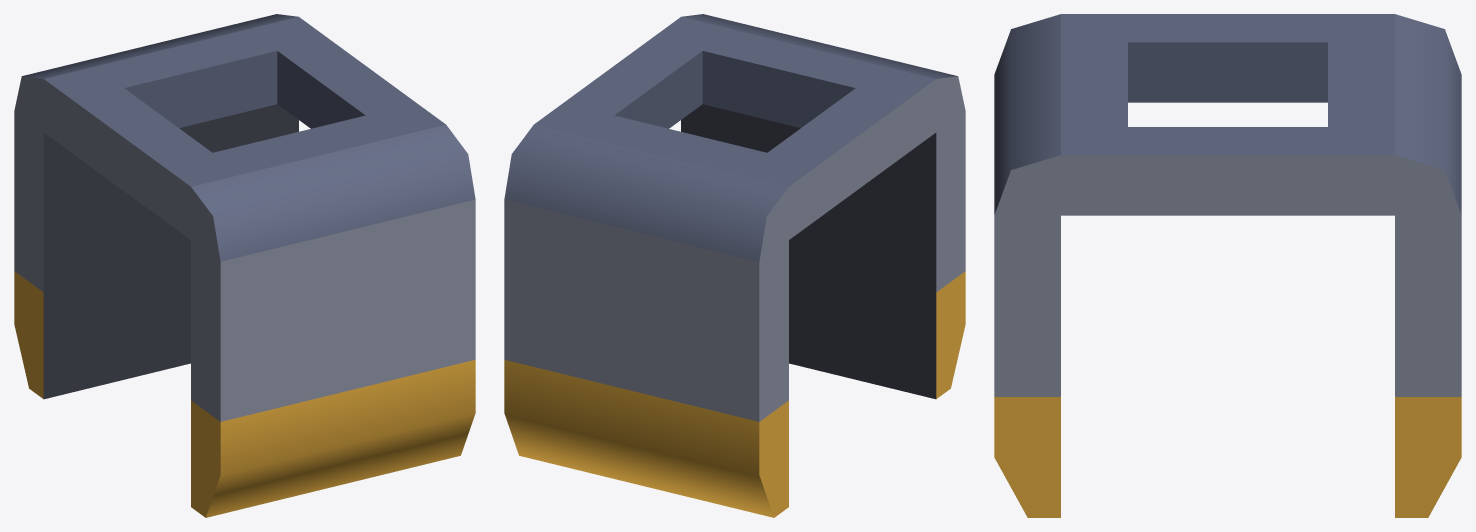
The model's file is CoverStripeTop-transformed.glb.
The picture shows the model from 3 angles, left to right: view 1: azimuth 30°, elevation 25°; view 2: azimuth 150°, elevation 25°; view 3: azimuth 270°, elevation 25°; orthographic projection. The views are drawn at different scales.
Visible parts, largest first — view 1: cover-stripe-top; view 2: cover-stripe-top; view 3: cover-stripe-top.
Boxes of the visible parts, x1=… form: cover-stripe-top: x1=14, y1=14, x2=475, y2=517; cover-stripe-top: x1=504, y1=14, x2=965, y2=517; cover-stripe-top: x1=994, y1=14, x2=1461, y2=517.
Bounding box in the file's own units: 1 × 1.2 × 1.4.
